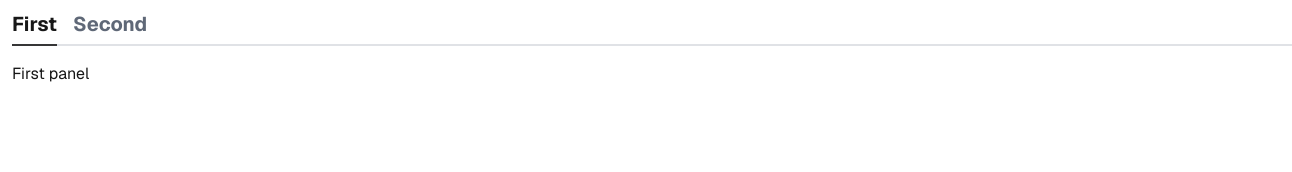
Tabs › selecting a tab shows its panel
Click the tab "Second": {"x": 110, "y": 29} [73, 12, 147, 46]
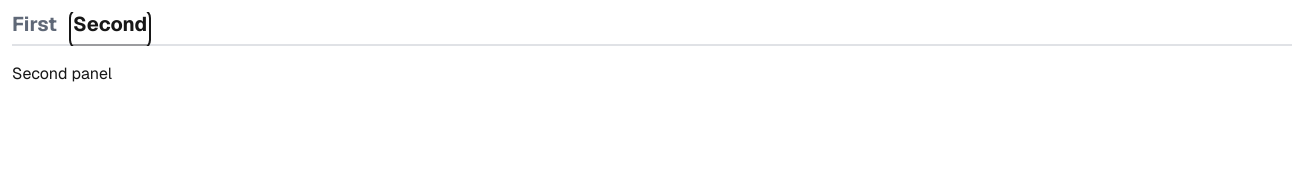
expect the text "Second panel" is shown: met, box [12, 63, 112, 84]
